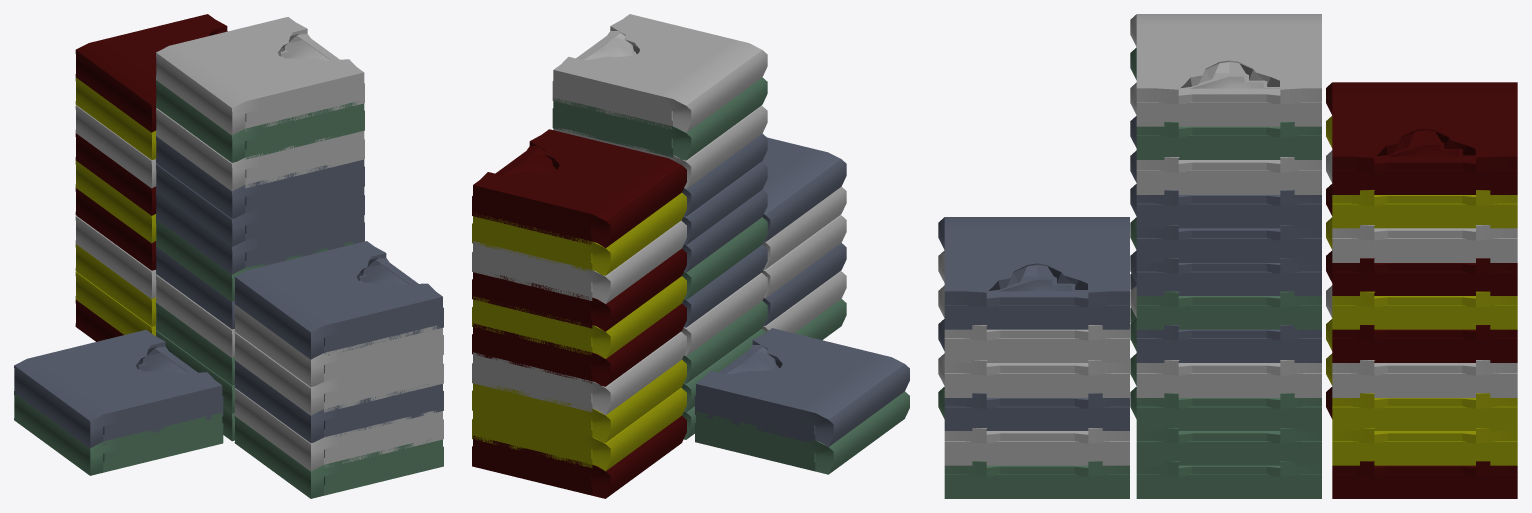
Rendered from clothes.fbx.
3 renders of one model, left to right at view 1: azimuth 30°, elevation 25°; view 2: azimuth 150°, elevation 25°; view 3: azimuth 270°, elevation 25°, orthographic. The views are drawn at different scales.
Parts seen in each view (by area): view 1: pPlane32; view 2: pPlane32; view 3: pPlane32.
Part boxes in pixels (box(x1,y1,x2,y2)): pPlane32: box(14, 14, 443, 498); pPlane32: box(472, 14, 909, 498); pPlane32: box(938, 14, 1517, 498).
Size of the model in its own units: 2.12 by 2.44 by 3.13.
